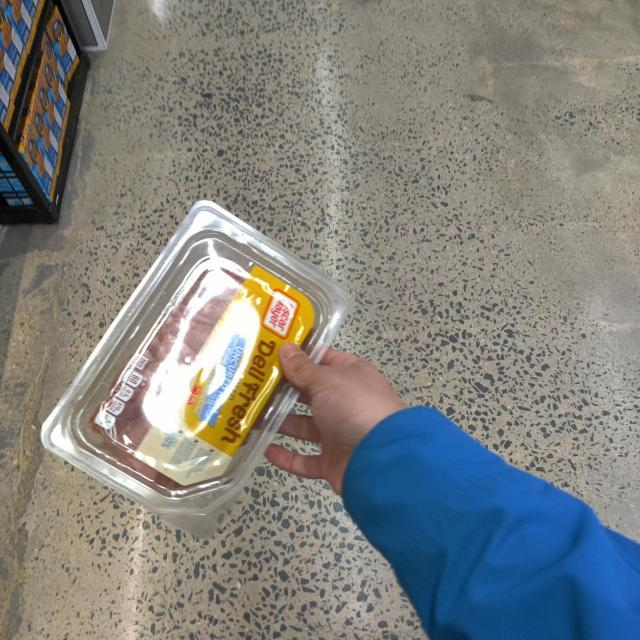Meat: (48, 197, 352, 535)
